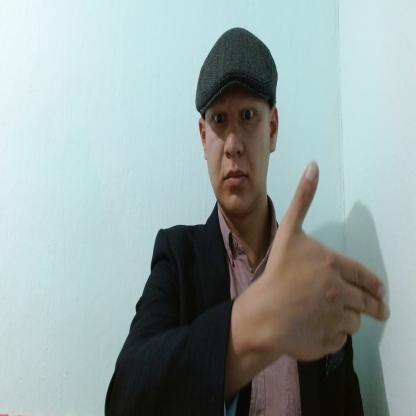H: (269, 161, 389, 362)
